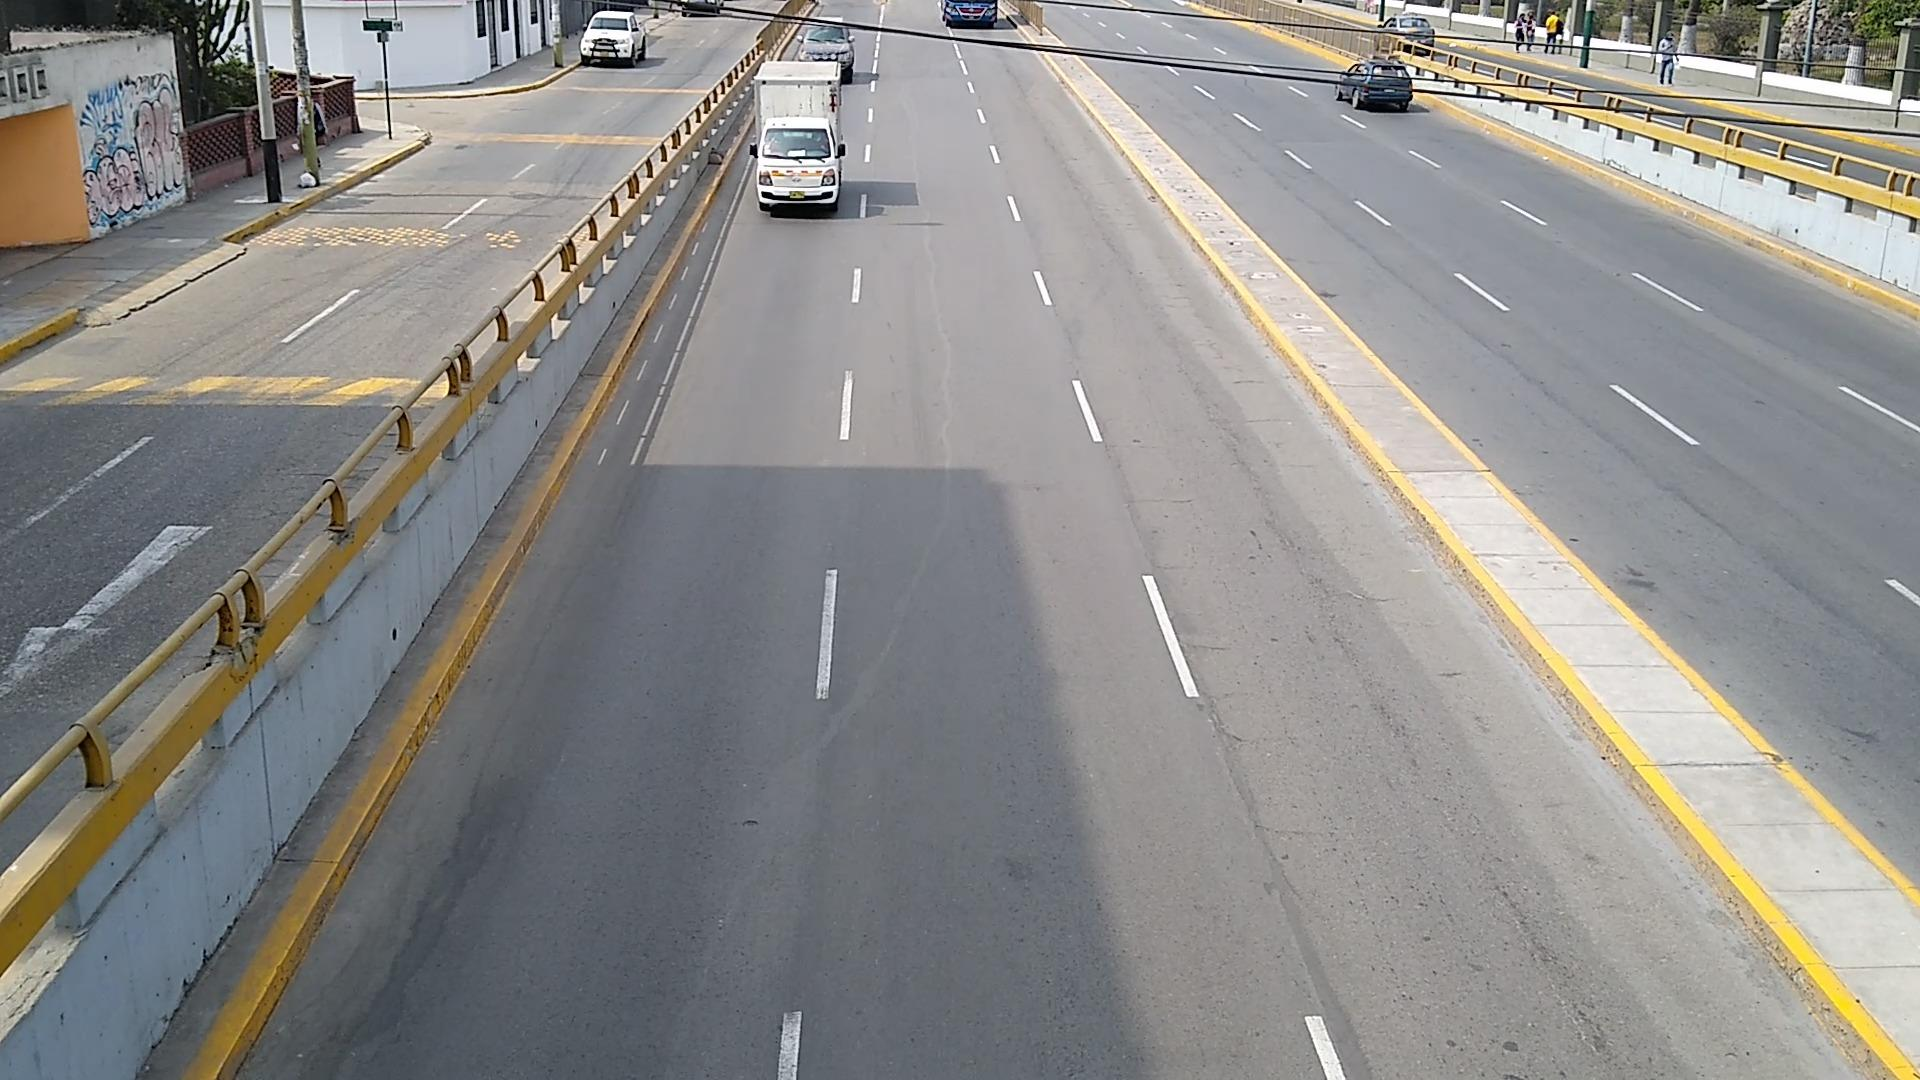car: (1335, 61, 1414, 108), (799, 22, 855, 83), (582, 12, 645, 62)
lorry: (754, 61, 844, 214)
